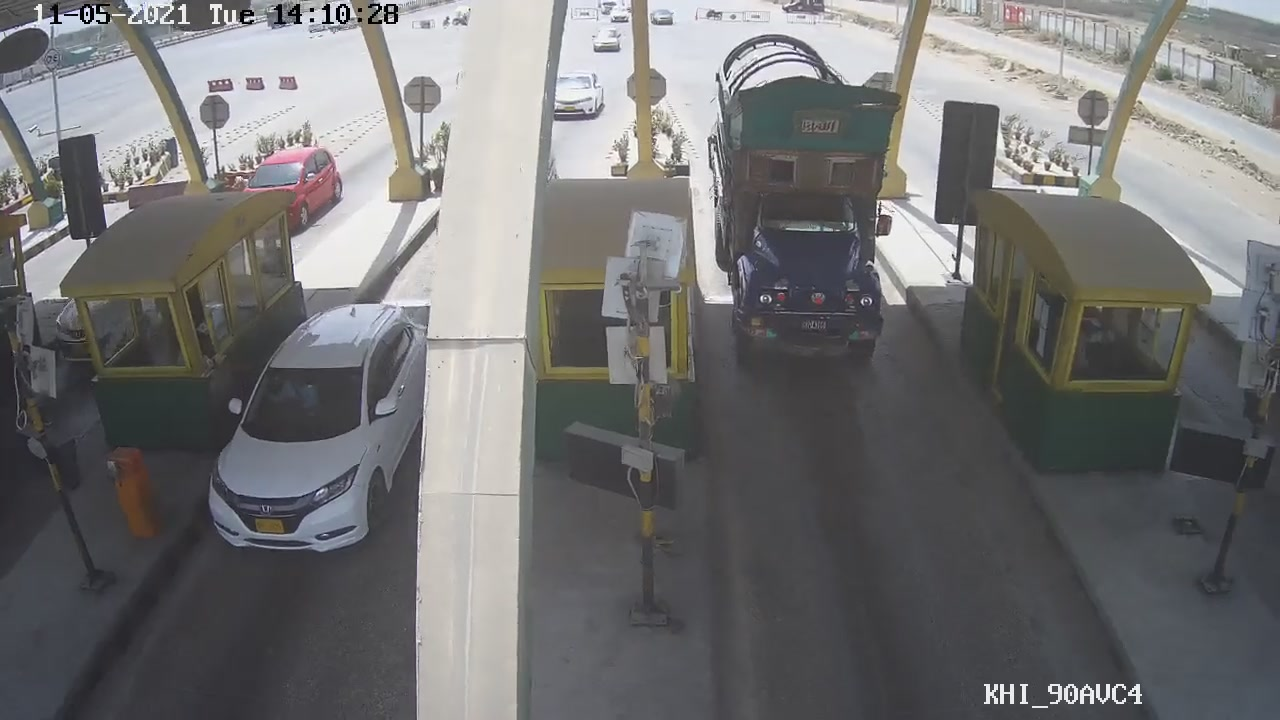F5: (695, 35, 901, 380)
